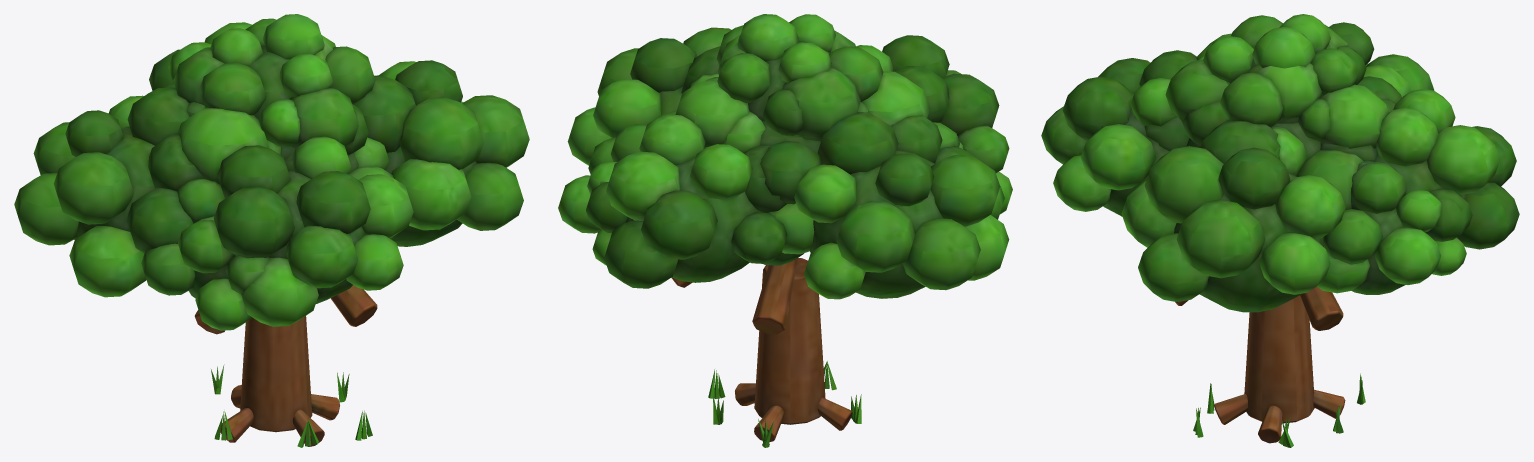
File: tamarind_tree.glb
The picture shows the model from 3 angles, left to right: view 1: azimuth 30°, elevation 25°; view 2: azimuth 150°, elevation 25°; view 3: azimuth 270°, elevation 25°; orthographic projection.
Visible parts, largest first — view 1: crown, tamarind_tree; view 2: crown, tamarind_tree; view 3: crown, tamarind_tree.
Boxes of the visible parts, bbox=[...] form: crown: bbox=[14, 14, 529, 330]; tamarind_tree: bbox=[194, 285, 377, 447]; crown: bbox=[558, 14, 1012, 299]; tamarind_tree: bbox=[671, 257, 861, 447]; crown: bbox=[1041, 14, 1519, 312]; tamarind_tree: bbox=[1175, 286, 1365, 447].
Size of the model in its own units: 1.47 by 1.29 by 1.4.
Materials: 1 (1 with a texture image).
